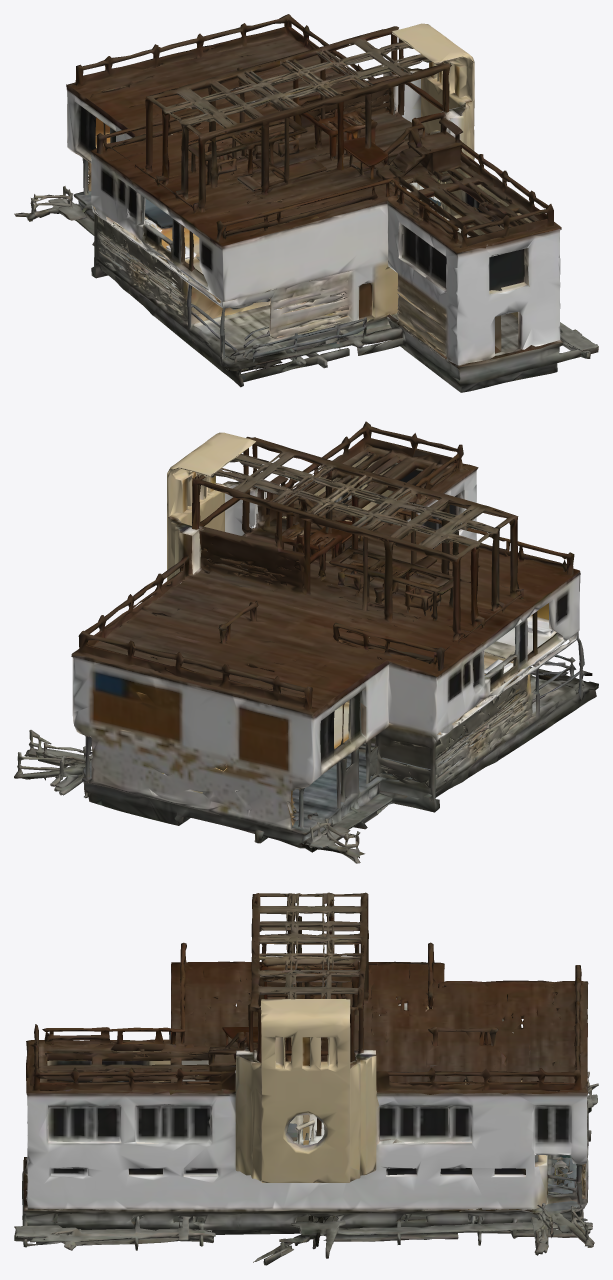
The model's file is egyptian-rowing-club-1.glb.
The picture shows the model from 3 angles, top to bottom: view 1: azimuth 30°, elevation 25°; view 2: azimuth 150°, elevation 25°; view 3: azimuth 270°, elevation 25°; orthographic projection. The views are drawn at different scales.
Bounding box in the file's own units: 0.7129 × 0.4463 × 1.
1 material, 1 textured.
